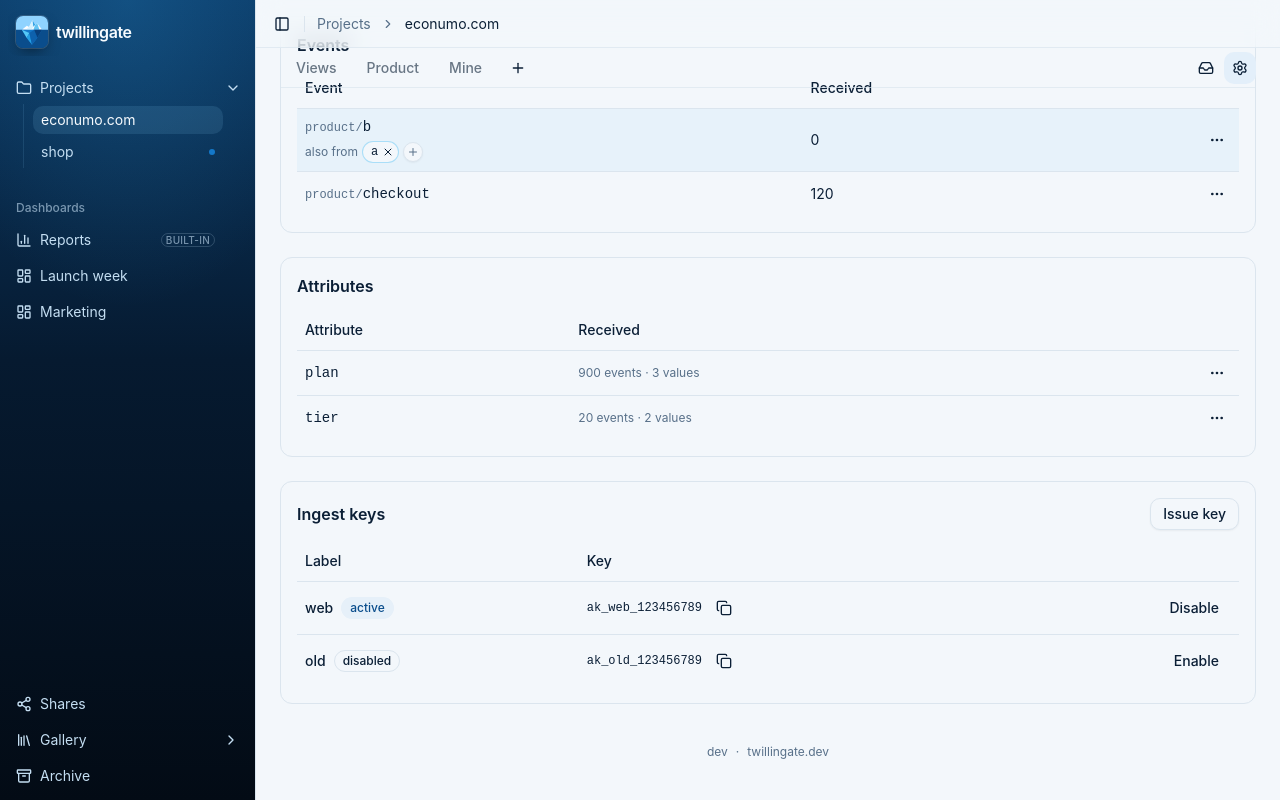
Test: Project › issues a key and shows it with its snippet
(page scrolled)
Step 1. Click the button "Issue key" → (1195, 514), box [1150,498,1239,530]
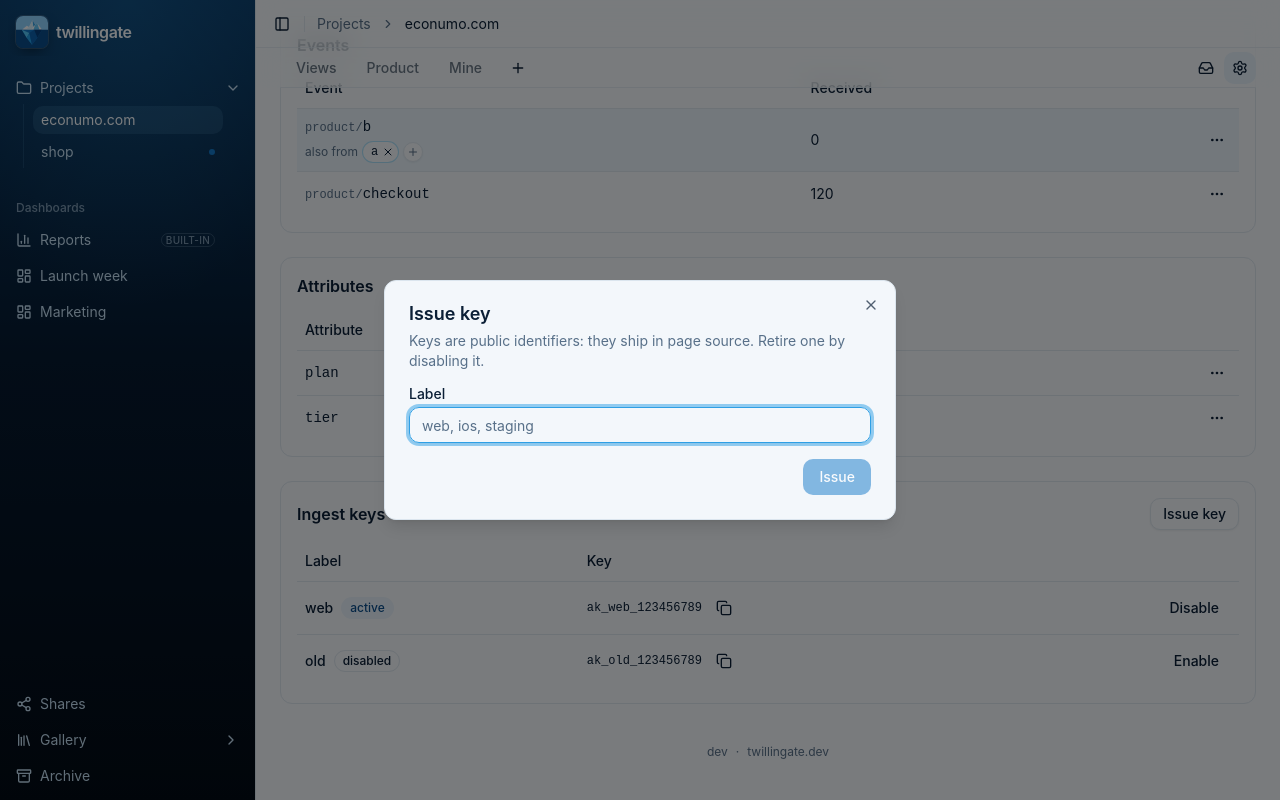
Step 2. Type "ios" into the field labelled "Label" → (640, 425), box [409,407,871,443]
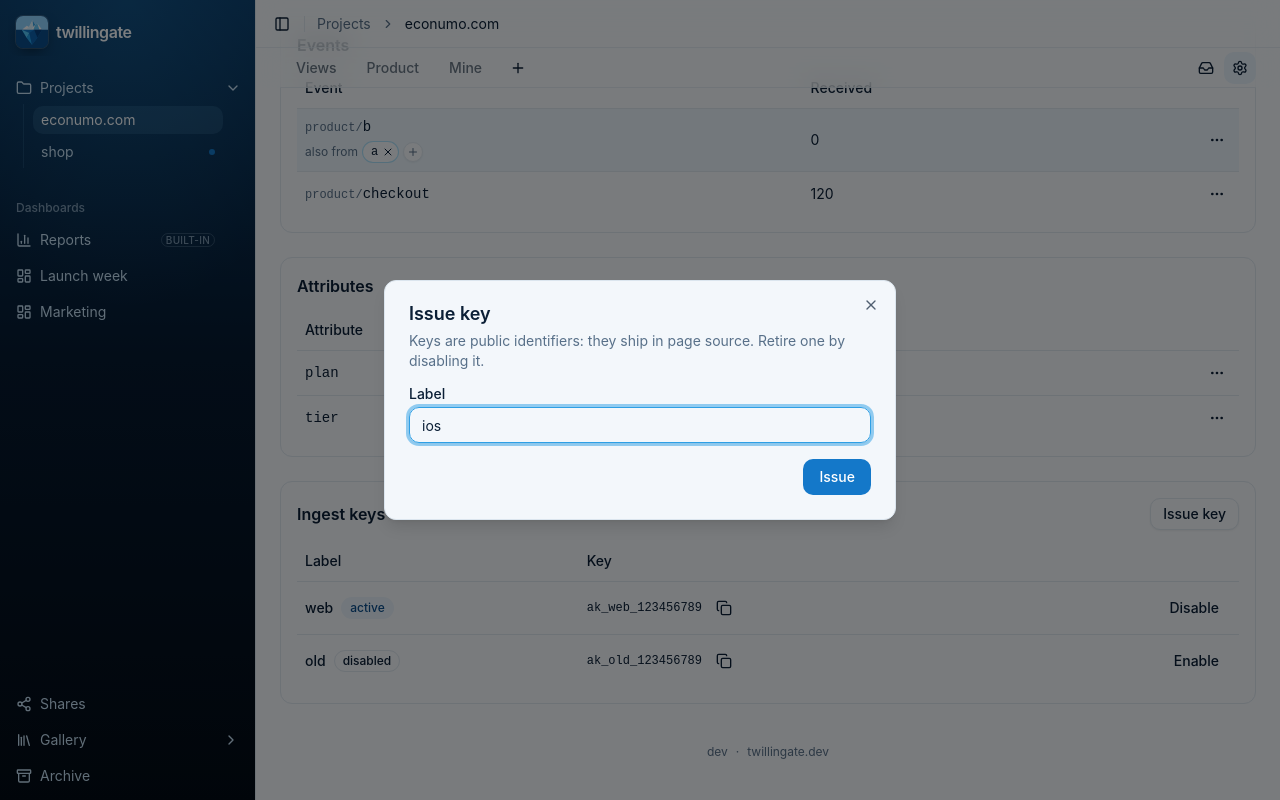
Step 3. Click the button "Issue" → (837, 477), box [804,459,871,495]
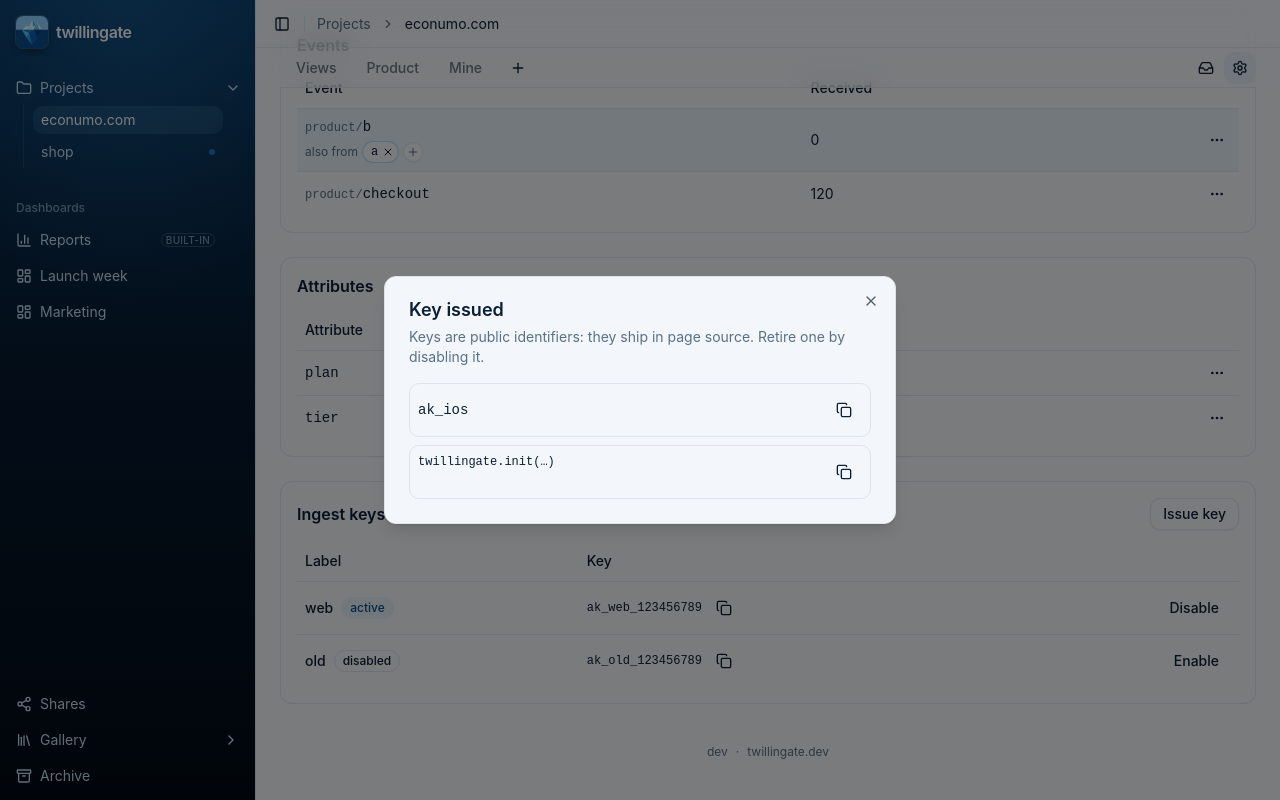
Result: the text "ak_ios" is shown at [418,402,468,418]
Result: the text "twillingate.init(…)" is shown at [418,455,555,469]
